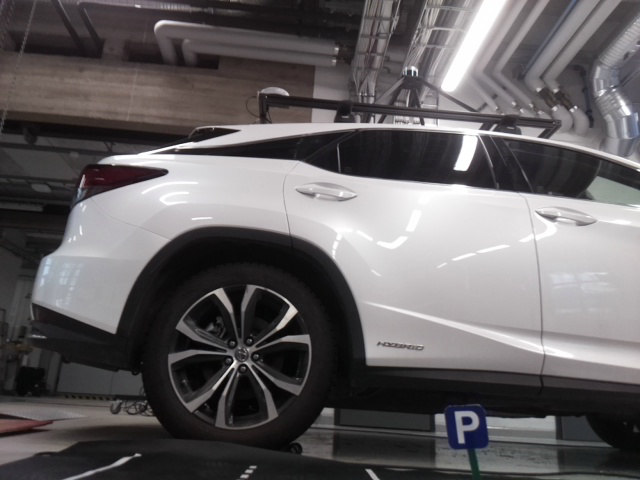Parking: (445, 405, 488, 449)
